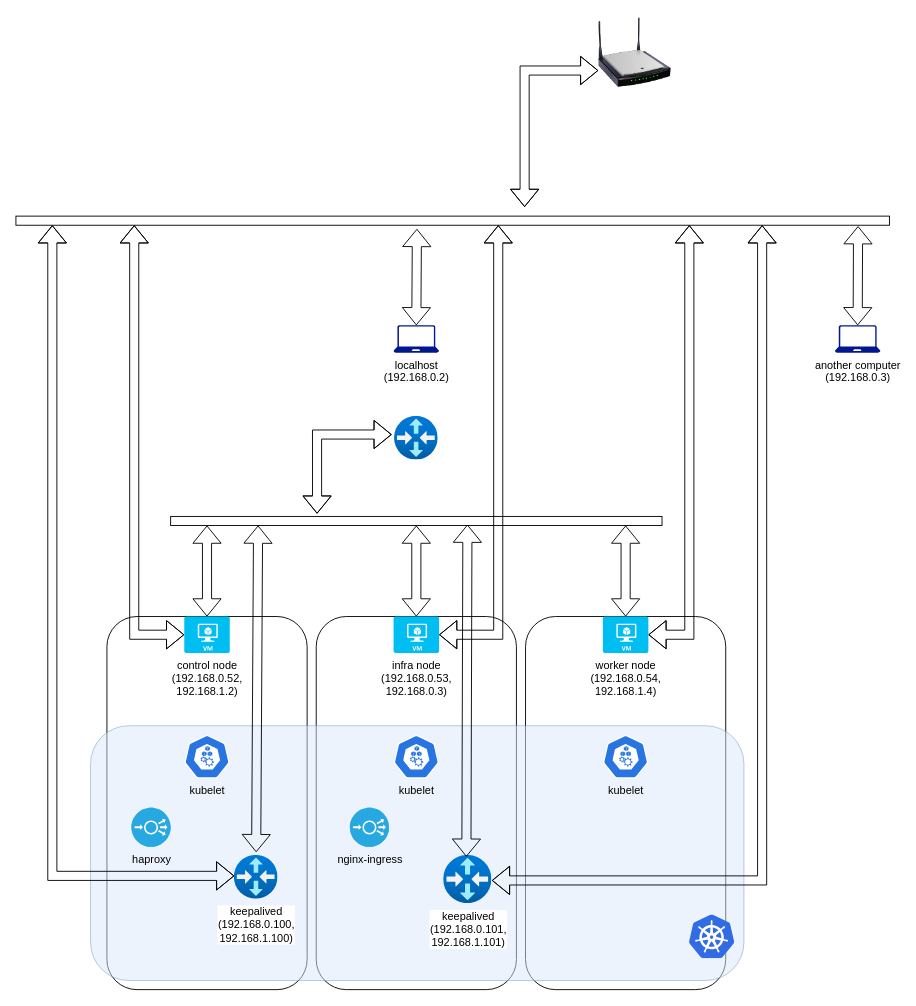
Image size: 916x1006. Some labels were removed from this diagram. The centre of each missing label's shape, as x and y in pixels:
"Home router (192.168.0.1)" goes at point 634,51.
"socket_vmnet (192.168.1.1)" goes at point 416,438.
